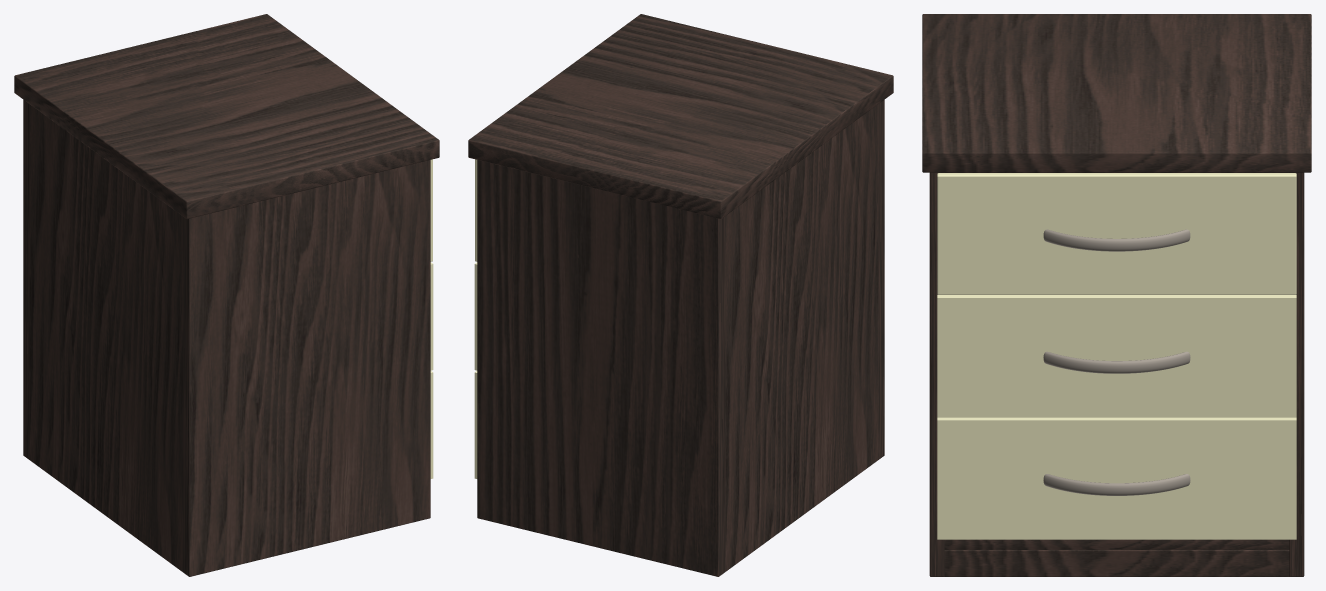
Rendered from nightstand_001.fbx.
3 views of the same model, side by side, from view 1: azimuth 30°, elevation 25°; view 2: azimuth 150°, elevation 25°; view 3: azimuth 270°, elevation 25° (orthographic). The views are drawn at different scales.
Visible parts, largest first — view 1: Tab_Right, Tab_back, Tab_top, Tab_left; view 2: Tab_left, Tab_back, Tab_top, Tab_Right; view 3: Tab_top, Box_01, Box_02, Box_03, Tab_f1, Tab_left, Tab_Right, Tab_f2, Plano.005, Plano.001, Plano.003.
Part boxes in pixels (x1,y1,x2,y2): Tab_Right: (182,160,430,576); Tab_back: (29,104,182,571); Tab_top: (14,14,439,218); Tab_left: (23,100,29,459); Tab_left: (477,160,725,576); Tab_back: (725,104,878,571); Tab_top: (468,14,893,218); Tab_Right: (878,100,884,459); Tab_top: (922,14,1311,172); Box_01: (937,417,1296,539); Box_02: (937,295,1296,417); Box_03: (937,173,1296,294); Tab_f1: (944,550,1289,576); Tab_left: (1289,172,1304,576); Tab_Right: (929,172,944,576); Tab_f2: (944,539,1289,549); Plano.005: (1043,229,1190,251); Plano.001: (1043,351,1190,373); Plano.003: (1043,474,1190,495).
Bounding box in the file's own units: 47.48 × 63 × 52.
